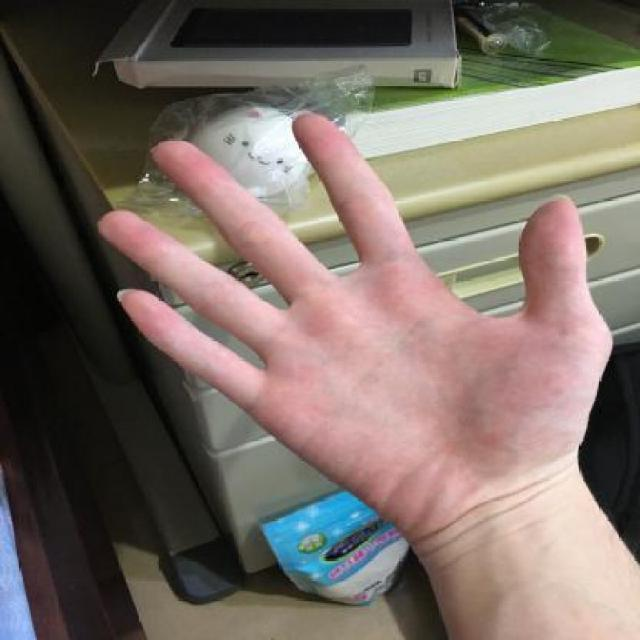hand: (88, 102, 614, 550)
